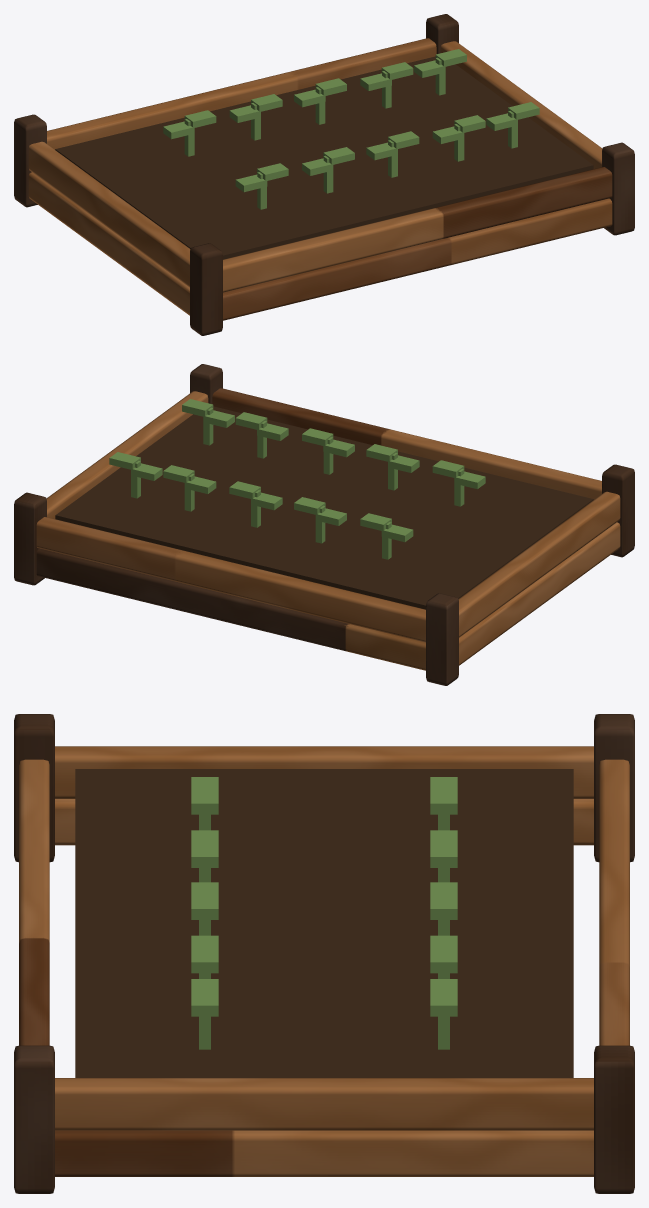
The model's file is farm_bed_sprouts.glb.
3 renders of one model, top to bottom at view 1: azimuth 30°, elevation 25°; view 2: azimuth 150°, elevation 25°; view 3: azimuth 270°, elevation 25°, orthographic. The views are drawn at different scales.
Parts seen in each view (by area): view 1: Soil_Surface, Frame_Front.001, Frame_Front, Frame_Back.001, Frame_Left.001, Frame_Left, Frame_Right.001, Frame_CornerPost.001, Frame_CornerPost.003, Frame_CornerPost, Frame_CornerPost.002; view 2: Soil_Surface, Frame_Back.001, Frame_Back, Frame_Front.001, Frame_Left.001, Frame_Left, Frame_Right.001, Frame_CornerPost, Frame_CornerPost.002, Frame_CornerPost.001, Frame_CornerPost.003; view 3: Soil_Surface, Frame_Right.001, Frame_Right, Frame_Left.001, Frame_Back.001, Frame_Front.001, Frame_CornerPost.002, Frame_CornerPost.003, Frame_CornerPost, Frame_CornerPost.001, Frame_Left, Plants_LeafB.006 (+9 smaller).
Part boxes in pixels (x1,y1,x2,y2): Soil_Surface: (55,56,593,259); Frame_Front.001: (223,167,612,292); Frame_Front: (223,198,612,320); Frame_Back.001: (47,38,436,149); Frame_Left.001: (28,141,190,287); Frame_Left: (28,172,189,315); Frame_Right.001: (440,41,602,168); Frame_CornerPost.001: (190,243,222,335); Frame_CornerPost.003: (602,142,634,235); Frame_CornerPost: (14,114,46,207); Frame_CornerPost.002: (426,14,458,53); Soil_Surface: (55,406,593,609); Frame_Back.001: (36,517,425,642); Frame_Back: (36,548,425,670); Frame_Front.001: (212,388,601,499); Frame_Left.001: (458,491,620,637); Frame_Left: (459,522,620,665); Frame_Right.001: (46,391,208,518); Frame_CornerPost: (426,593,458,685); Frame_CornerPost.002: (14,492,46,585); Frame_CornerPost.001: (602,464,634,557); Frame_CornerPost.003: (190,364,222,403); Soil_Surface: (75,769,573,1077); Frame_Right.001: (55,1078,593,1130); Frame_Right: (55,1130,593,1176); Frame_Left.001: (55,746,593,798); Frame_Back.001: (599,759,629,1045); Frame_Front.001: (19,759,49,1045); Frame_CornerPost.002: (594,1045,634,1193); Frame_CornerPost.003: (14,1045,54,1193); Frame_CornerPost: (594,714,634,862); Frame_CornerPost.001: (14,714,54,862); Frame_Left: (55,799,593,845); Plants_LeafB.006: (430,943,457,973).
Size of the model in its own units: 2.42 by 0.5075 by 1.82.
4 materials, 4 textured.
